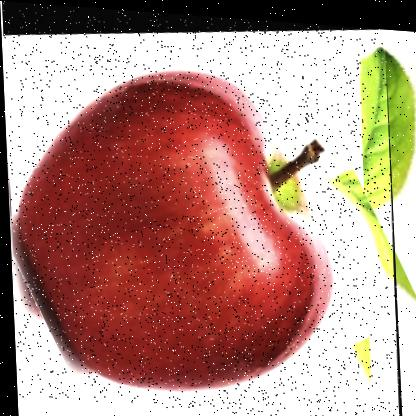apple: (1, 1, 400, 415)
